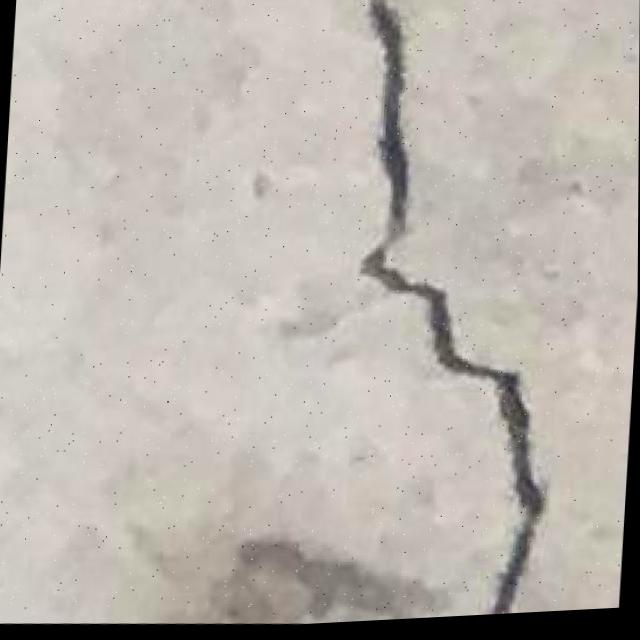Crack: (311, 0, 602, 627)
